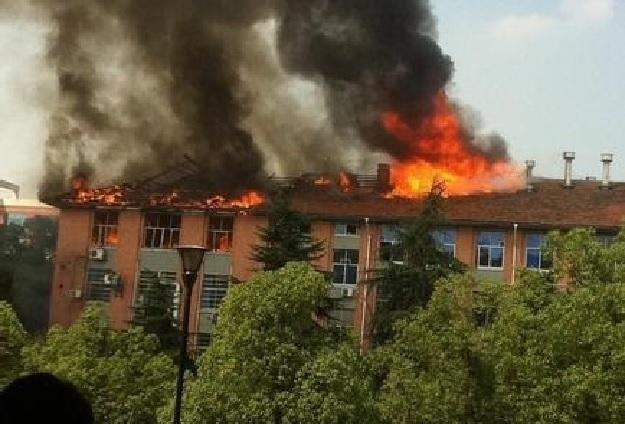fire: (382, 99, 526, 197), (72, 178, 125, 205), (212, 189, 267, 209), (214, 231, 231, 253), (103, 226, 121, 245)
